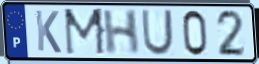0: (181, 9, 209, 57)
2: (216, 9, 247, 58)
H: (101, 8, 141, 56)
K: (33, 8, 63, 55)
M: (62, 7, 108, 57)
U: (140, 8, 175, 57)
